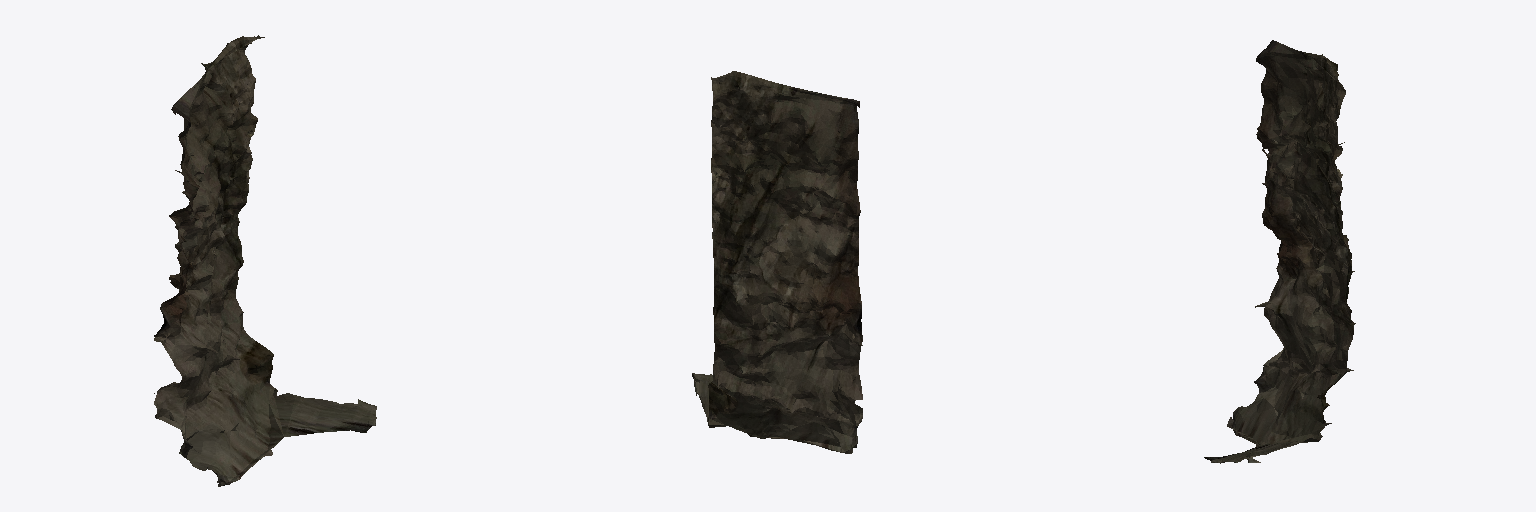
The picture shows the model from 3 angles: view 1: azimuth 30°, elevation 25°; view 2: azimuth 150°, elevation 25°; view 3: azimuth 270°, elevation 25°; orthographic projection.
Parts seen in each view (by area): view 1: texture_0; view 2: texture_0; view 3: texture_0.
Part boxes in pixels (bbox=[...]): texture_0: bbox=[154, 35, 376, 486]; texture_0: bbox=[692, 71, 862, 453]; texture_0: bbox=[1204, 40, 1355, 463].
Size of the model in its own units: 0.3941 by 0.7627 by 0.2644.
Materials: 1 (1 with a texture image).